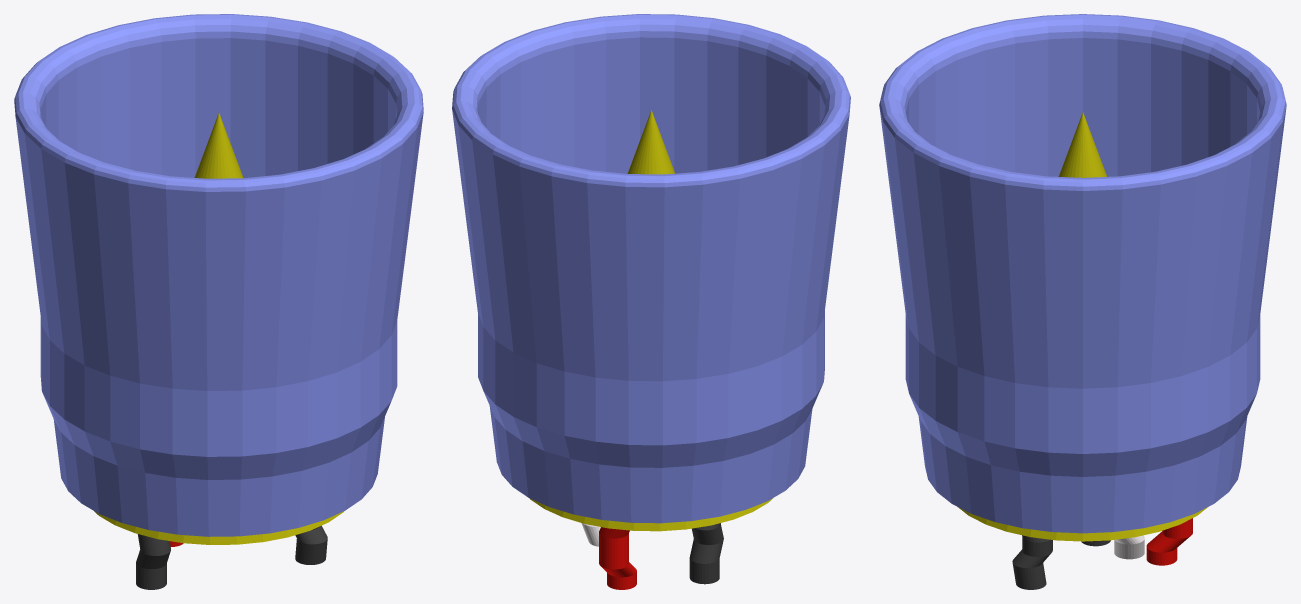
Rendered from Principal1.fbx.
The picture shows the model from 3 angles, left to right: view 1: azimuth 30°, elevation 25°; view 2: azimuth 150°, elevation 25°; view 3: azimuth 270°, elevation 25°; orthographic projection. The views are drawn at different scales.
Visible parts, largest first — view 1: Cylinder, Cone, Cylinder.003, Cylinder.005; view 2: Cylinder, Cone, Cylinder.004, Cylinder.003; view 3: Cylinder, Cone, Cylinder.005, Cylinder.004, Cylinder.002.
Part boxes in pixels (box(x1,y1,x2,y2)): Cylinder: box(14, 14, 423, 536); Cone: box(94, 113, 343, 544); Cylinder.003: box(136, 534, 170, 589); Cylinder.005: box(295, 525, 327, 564); Cylinder: box(452, 14, 850, 523); Cone: box(529, 110, 772, 531); Cylinder.004: box(599, 527, 636, 589); Cylinder.003: box(689, 523, 723, 584); Cylinder: box(879, 14, 1286, 533); Cone: box(958, 112, 1207, 541); Cylinder.005: box(1012, 535, 1052, 589); Cylinder.004: box(1146, 518, 1192, 565); Cylinder.002: box(1114, 535, 1144, 559).
Bounding box in the file's own units: 200 × 256 × 200.
